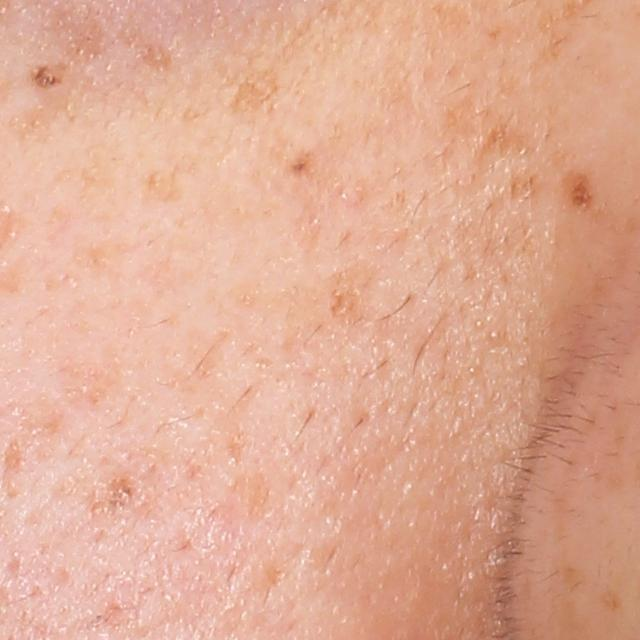melasma: (209, 24, 317, 130), (143, 131, 222, 207), (327, 259, 382, 333), (560, 167, 597, 216), (281, 146, 322, 183)
